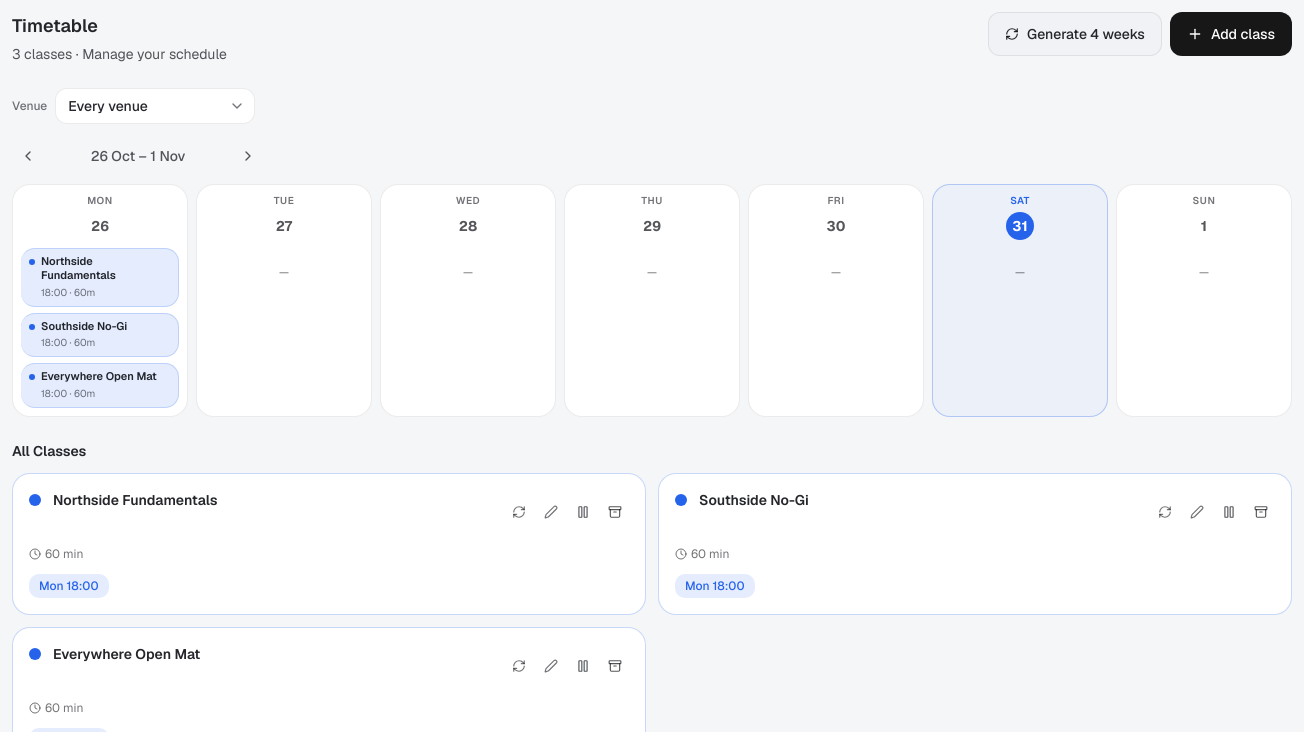
Test: timetable venue filter › with two venues, picking one hides the other venue's classes and keeps the venue-less class
expect the text "Southside No-Gi" is shown: met, box [41,318,127,332]
Select "Northside" in the dropdown with test id "timetable-venue-filter": (155, 106) [55,88,255,124]
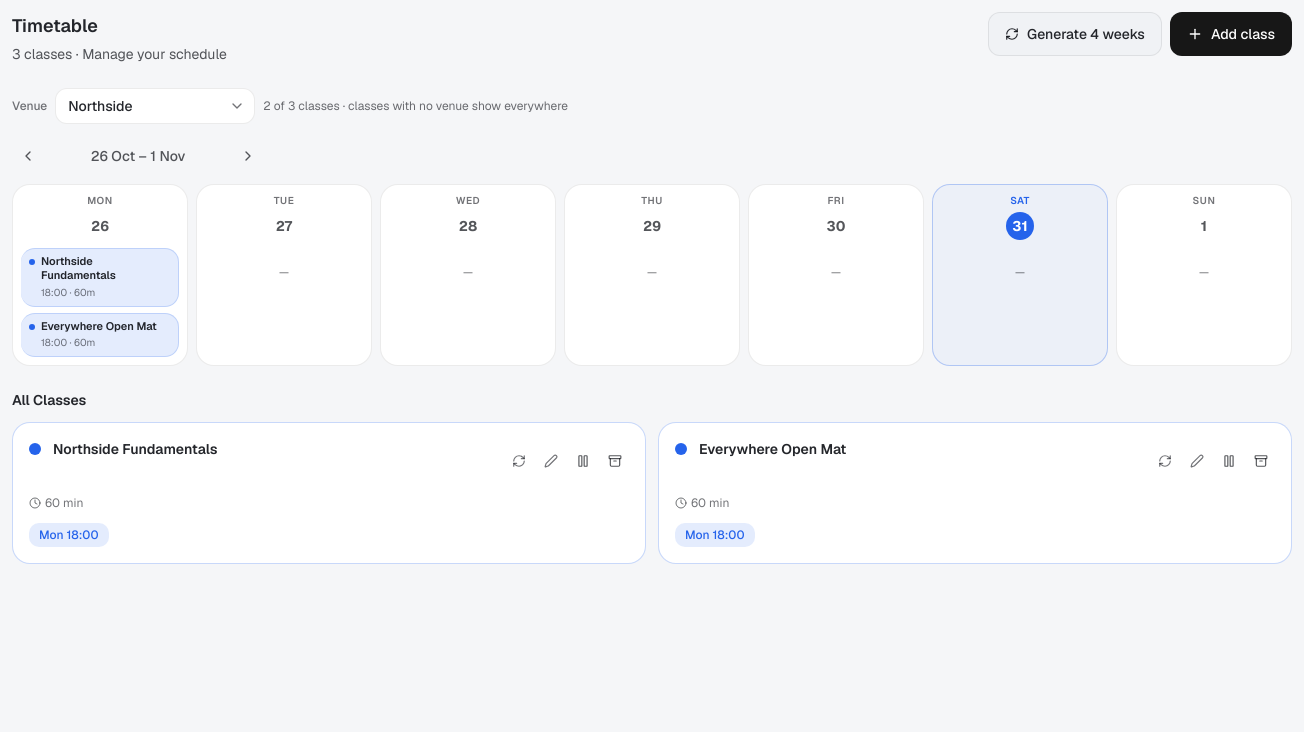
expect the text "Northside Fundamentals" is shown: met, box [41,254,116,282]
expect the button "Southside No-Gi" is gone: met
expect the text "2 of 3 classes · classes with no venue show everywhere" is shown: met, box [263,98,568,114]
